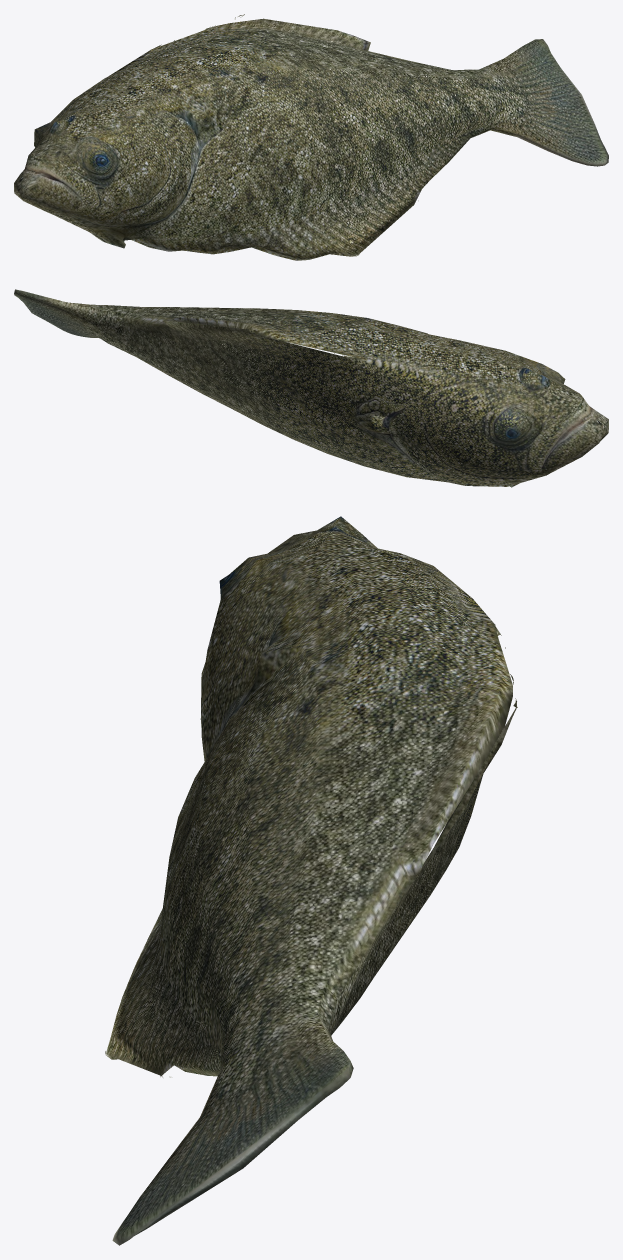
The model's file is halibut.glb.
3 views of the same model, one above another, from view 1: azimuth 30°, elevation 25°; view 2: azimuth 150°, elevation 25°; view 3: azimuth 270°, elevation 25° (orthographic). The views are drawn at different scales.
Visible parts, largest first — view 1: tripo_node_31440385; view 2: tripo_node_31440385; view 3: tripo_node_31440385.
Part boxes in pixels (<box>): tripo_node_31440385: <box>14,14,608,260</box>; tripo_node_31440385: <box>14,289,608,487</box>; tripo_node_31440385: <box>105,516,517,1245</box>.
Size of the model in its own units: 96.86 by 29.16 by 31.53.
1 material, 1 textured.
